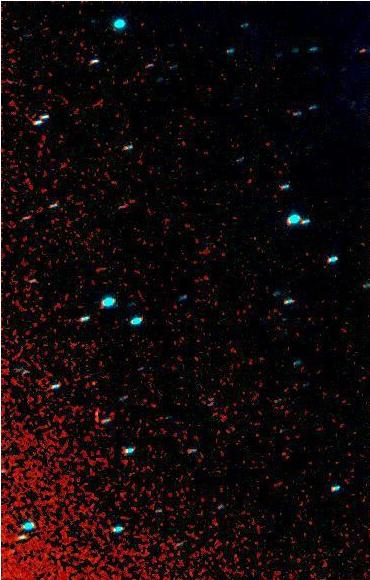star: (344, 34, 370, 64)
